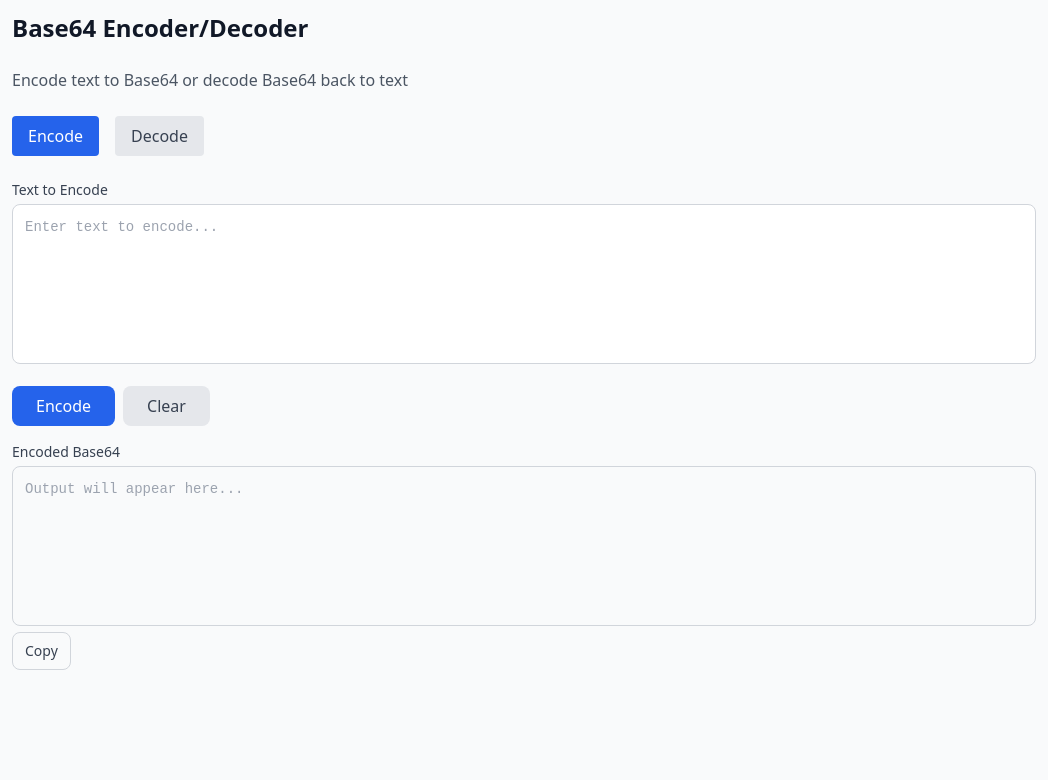
Test: Base64EncoderDecoder › shows error for invalid base64
Click the button "Decode": click(159, 136) top-left (115, 116), bottom-right (204, 156)
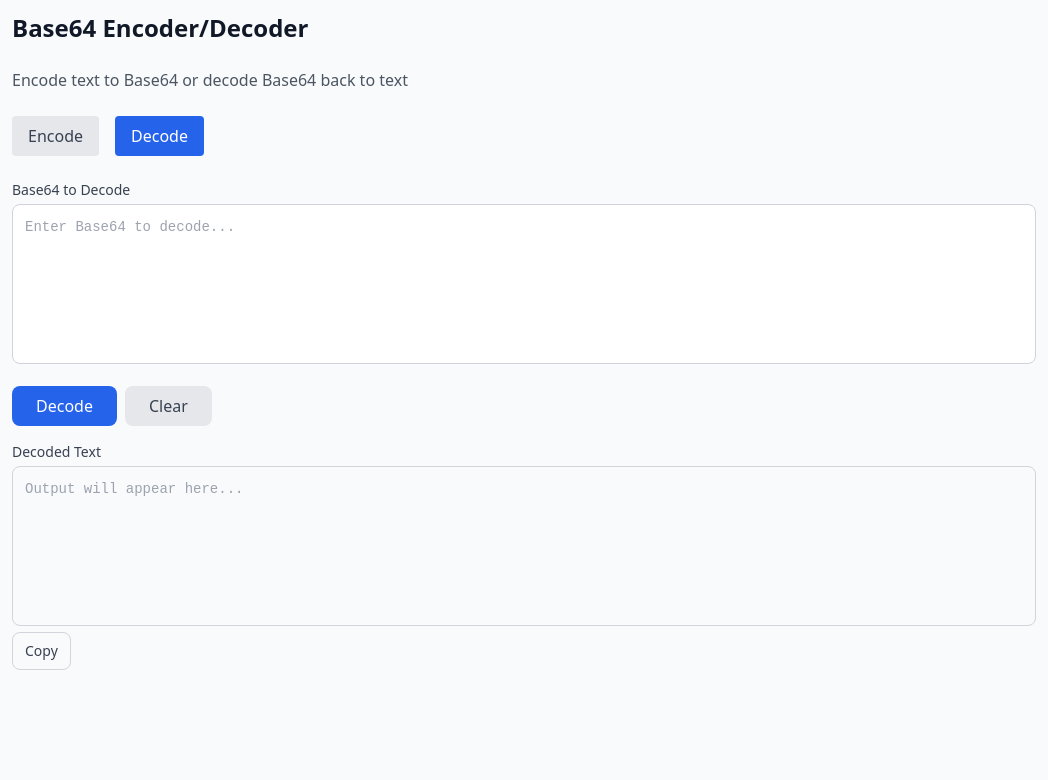
In the text box labelled "Base64 to Decode": (524, 284) top-left (12, 204), bottom-right (1036, 364), type "invalid!!!"
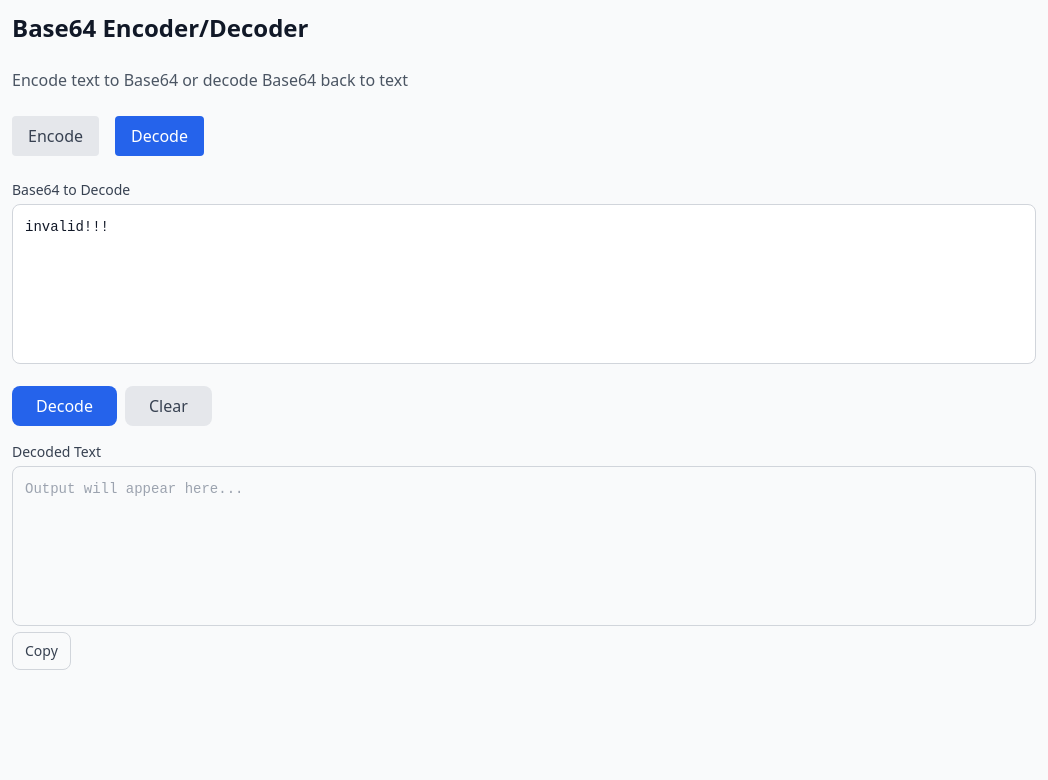
Click the button "Decode" below "Base64 to Decode": click(64, 406) top-left (12, 386), bottom-right (117, 426)
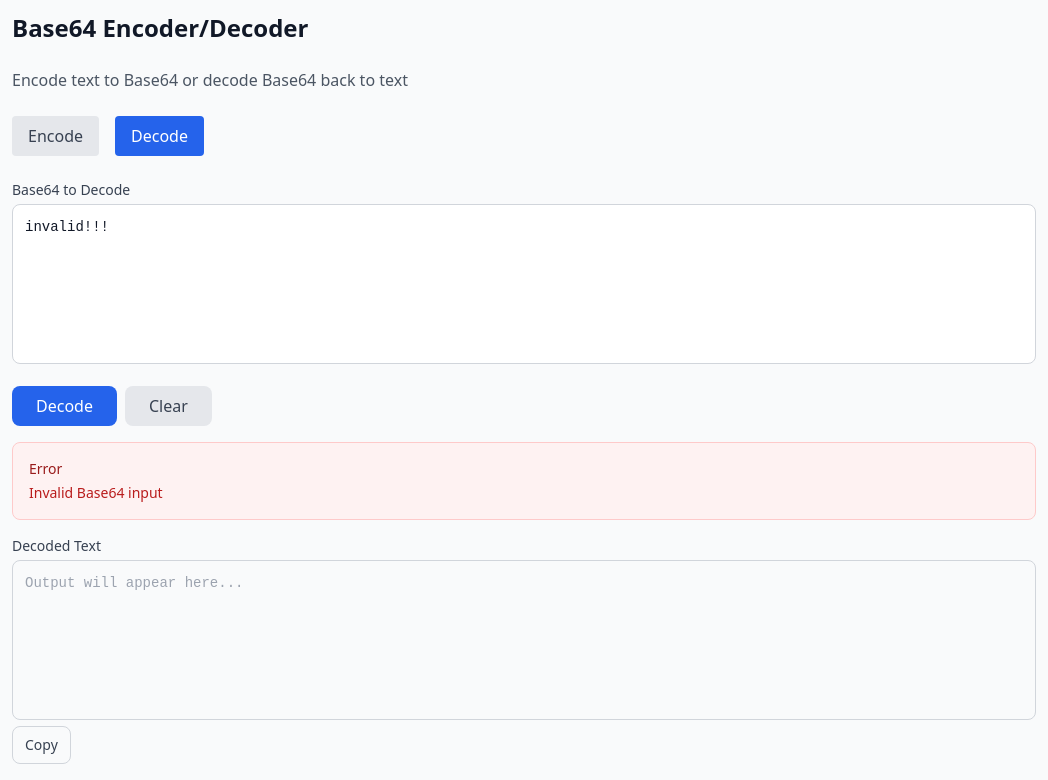
Check: the text "Error" is shown, box top-left (29, 459), bottom-right (62, 478)
Check: the text "Invalid Base64 input" is shown, box top-left (29, 483), bottom-right (163, 502)
